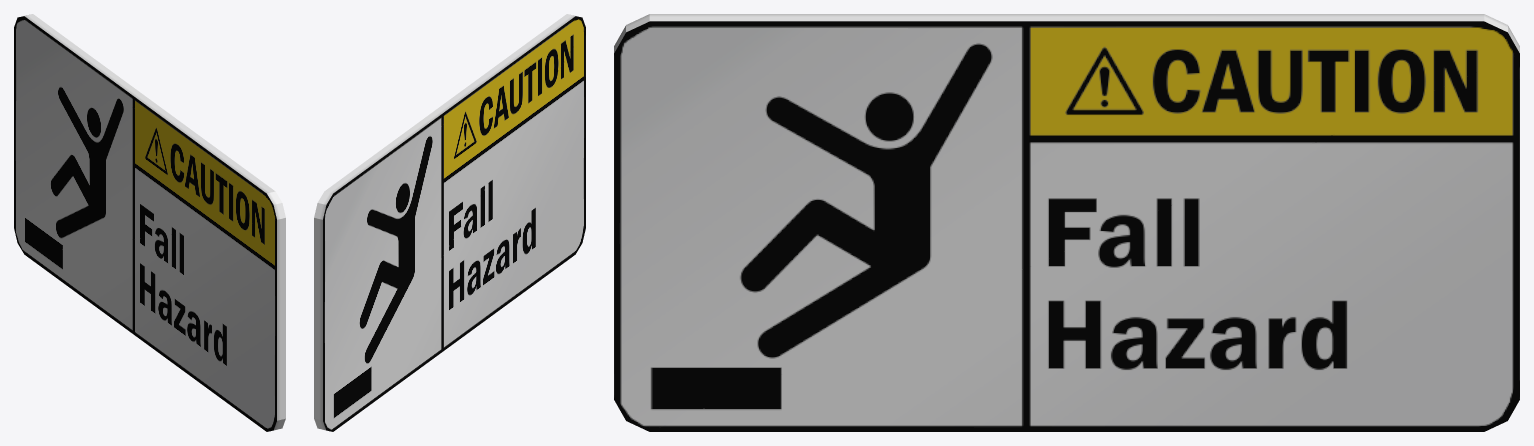
Rendered from aviso_perigo_queda_placa.glb.
3 views of the same model, side by side, from view 1: azimuth 30°, elevation 25°; view 2: azimuth 150°, elevation 25°; view 3: azimuth 270°, elevation 25° (orthographic). The views are drawn at different scales.
Visible parts, largest first — view 1: placa_parede; view 2: placa_parede; view 3: placa_parede.
Part boxes in pixels (box(x1,y1,x2,y2)): placa_parede: box(14, 14, 285, 431); placa_parede: box(314, 14, 585, 431); placa_parede: box(614, 14, 1519, 431).
Size of the model in its own units: 0.0778 by 2 by 4.
Materials: 1 (1 with a texture image).
